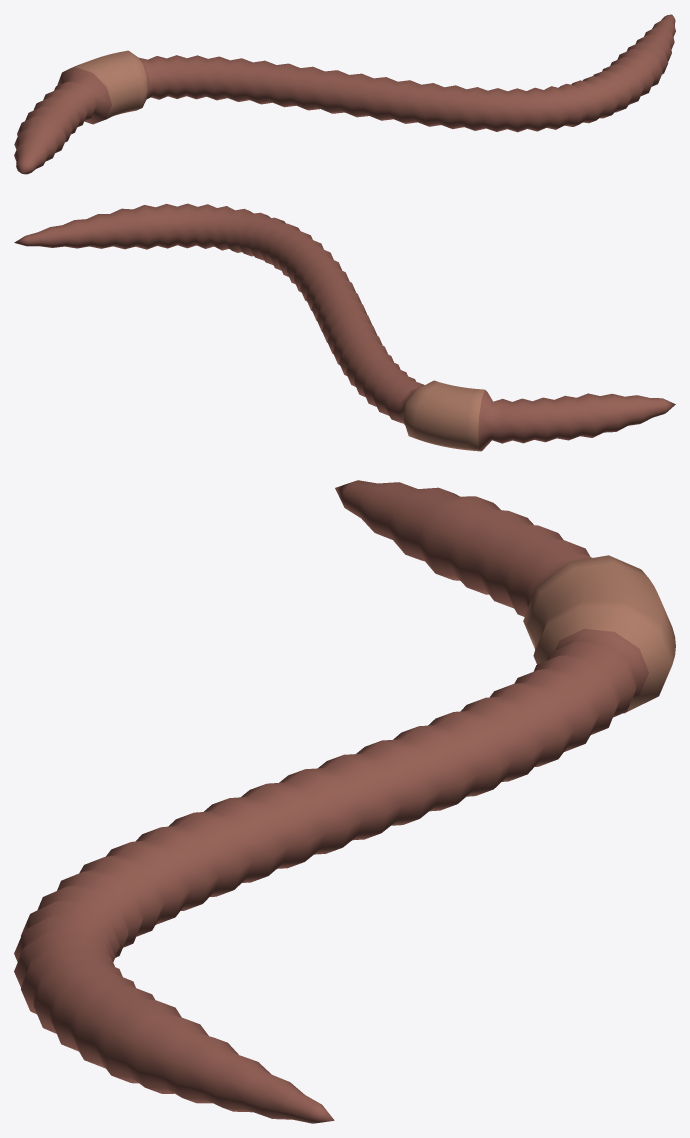
The model's file is NEW_RECOVERY_084_LOD2.fbx.
3 views of the same model, one above another, from view 1: azimuth 30°, elevation 25°; view 2: azimuth 150°, elevation 25°; view 3: azimuth 270°, elevation 25° (orthographic). The views are drawn at different scales.
Parts seen in each view (by area): view 1: earthworm; view 2: earthworm; view 3: earthworm.
Boxes of the visible parts, <box> form: earthworm: <box>14,14,675,174</box>; earthworm: <box>14,203,675,451</box>; earthworm: <box>14,480,675,1123</box>.
Bounding box in the file's own units: 470 × 208 × 35.7.
